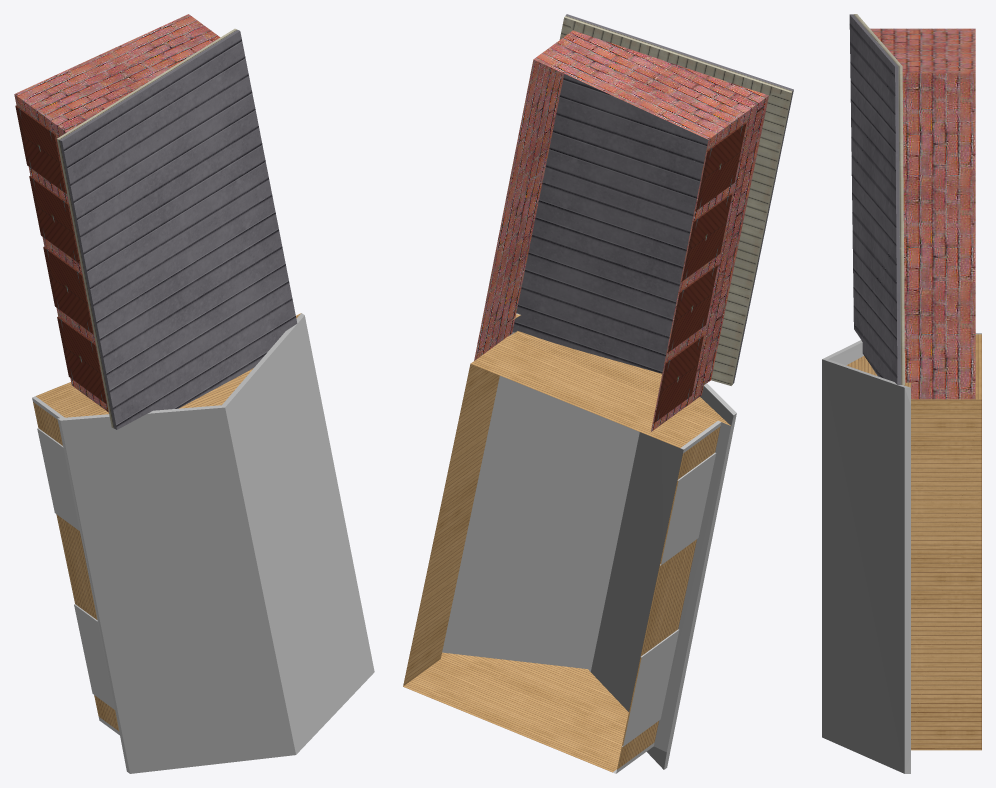
The model's file is 103_Toompuiestee_16_korvalhoone2.obj.
3 views of the same model, side by side, from view 1: azimuth 30°, elevation 25°; view 2: azimuth 150°, elevation 25°; view 3: azimuth 270°, elevation 25° (orthographic). The views are drawn at different scales.
Parts seen in each view (by area): view 1: TP16_03; view 2: TP16_03; view 3: TP16_03.
Part boxes in pixels (x1=…): TP16_03: x1=14, y1=14, x2=374, y2=773; TP16_03: x1=403, y1=14, x2=793, y2=773; TP16_03: x1=822, y1=14, x2=981, y2=773.
Size of the model in its own units: 11.62 by 23.34 by 4.96.
